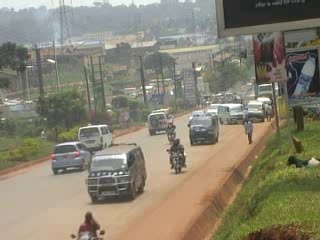Car: (49, 137, 94, 178), (146, 110, 175, 137), (185, 108, 204, 128), (204, 101, 220, 116)
Motorcycle: (68, 209, 109, 236), (164, 138, 190, 175), (164, 118, 178, 145)
